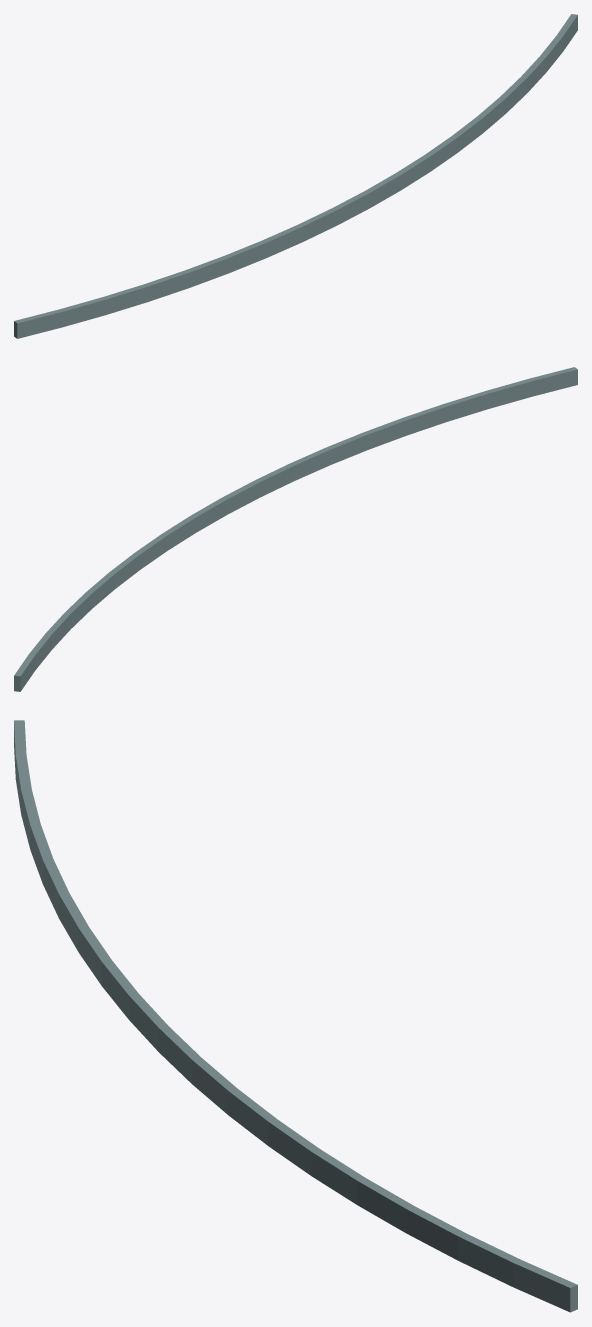
File: RoadPlan_WalkCurve_2L_A45_R18_Curb_-1.glb
The picture shows the model from 3 angles, top to bottom: view 1: azimuth 30°, elevation 25°; view 2: azimuth 210°, elevation 25°; view 3: azimuth 270°, elevation 25°; orthographic projection. The views are drawn at different scales.
Parts seen in each view (by area): view 1: RoadPlan_WalkCurve_2L_A45_R18_Curb_-1; view 2: RoadPlan_WalkCurve_2L_A45_R18_Curb_-1; view 3: RoadPlan_WalkCurve_2L_A45_R18_Curb_-1.
Boxes of the visible parts, bbox=[...] form: RoadPlan_WalkCurve_2L_A45_R18_Curb_-1: bbox=[14, 14, 577, 338]; RoadPlan_WalkCurve_2L_A45_R18_Curb_-1: bbox=[14, 367, 577, 691]; RoadPlan_WalkCurve_2L_A45_R18_Curb_-1: bbox=[14, 720, 577, 1312].
Bounding box in the file's own units: 14.93 × 0.3 × 6.27.
